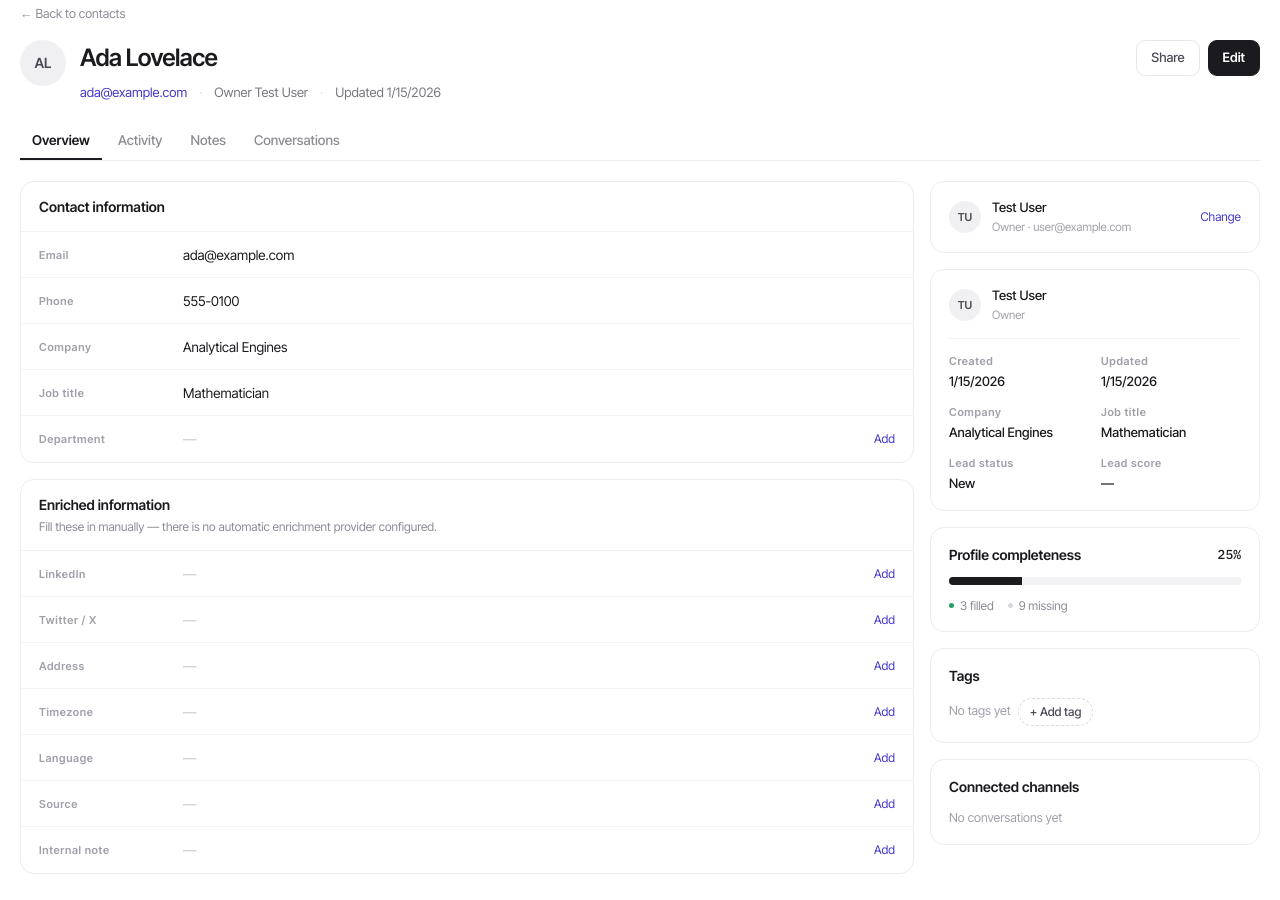
Test: ContactDetailClient › leaves the Overview tab intact and fetches real conversations for the Conversations tab
The width and height of the screenshot is (1280, 900).
Expected: the heading "Ada Lovelace" is shown, [80,43,217,72]
Expected: the link "ada@example.com" is shown, [80,83,187,102]
What coordinates should you click on to do the following:
click the tab "Conversations"
I would click on:
 (297, 141)
Its box is [242,122,352,160].
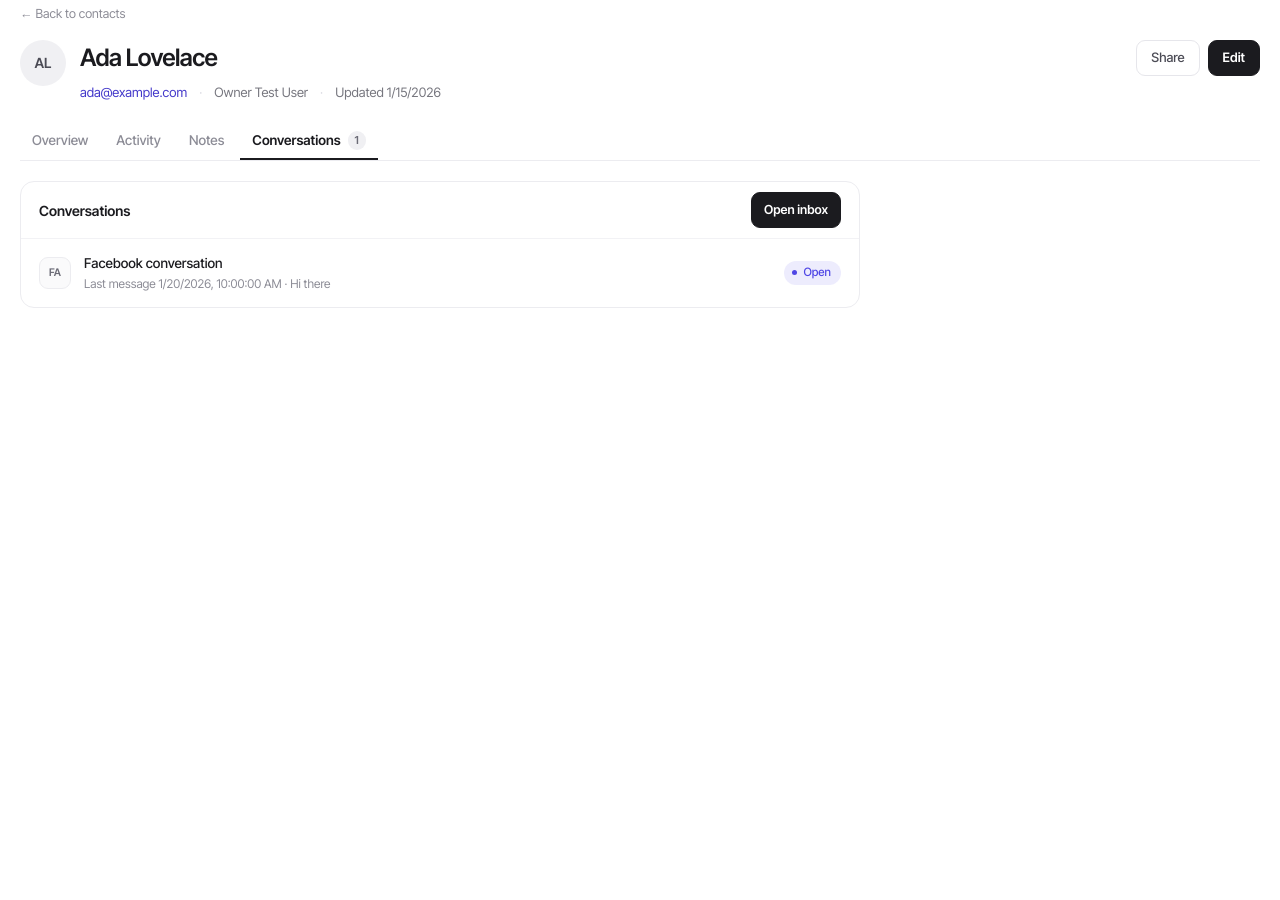
Now the text "Facebook conversation" is shown, box [84,255,223,271]
